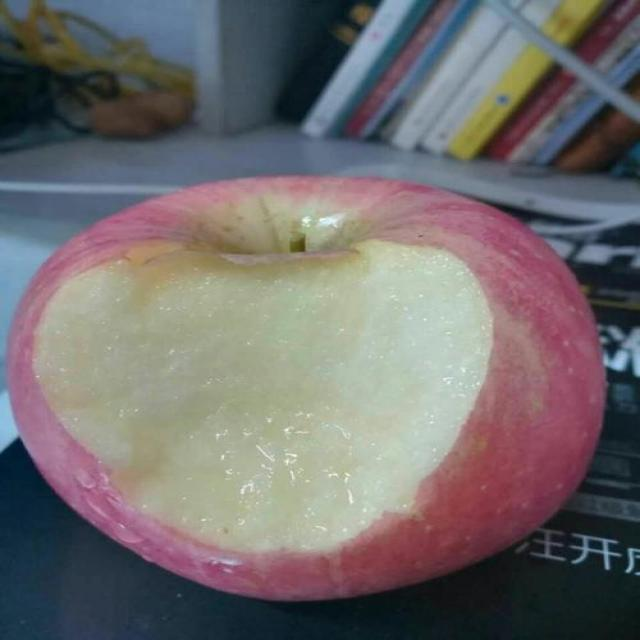Rotten: (45, 190, 638, 611)
